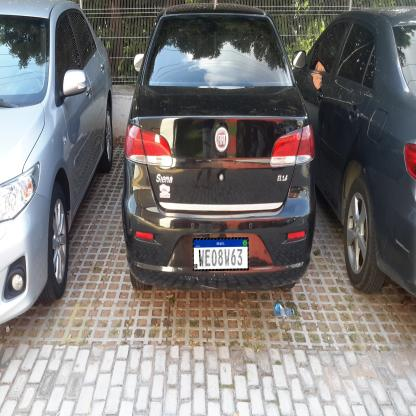PlacaM: (192, 237, 248, 271)
